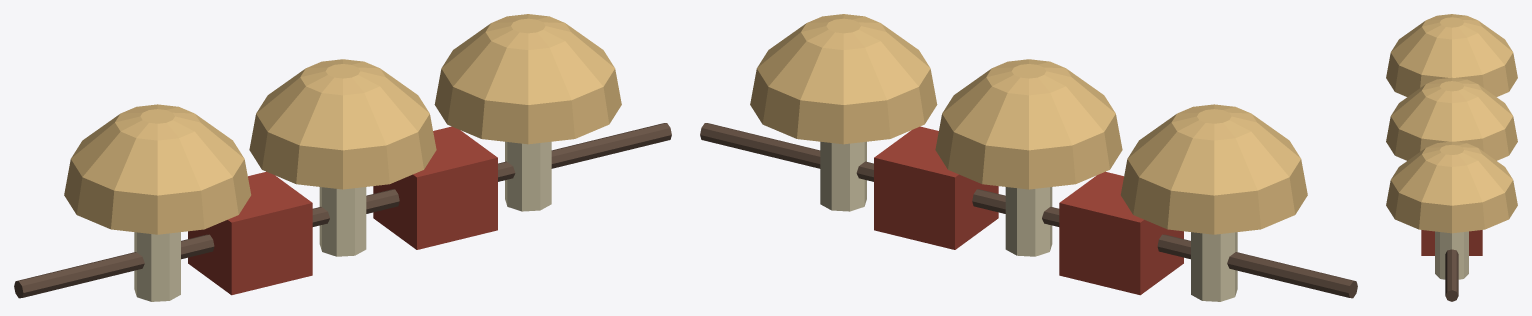
Rendered from AE_Item_MooncapSkewer.fbx.
3 renders of one model, left to right at view 1: azimuth 30°, elevation 25°; view 2: azimuth 150°, elevation 25°; view 3: azimuth 270°, elevation 25°, orthographic. The views are drawn at different scales.
Parts seen in each view (by area): view 1: AE_Item_MooncapSkewer; view 2: AE_Item_MooncapSkewer; view 3: AE_Item_MooncapSkewer.
Boxes of the visible parts, x1,y1,x2,y2 form: AE_Item_MooncapSkewer: [14, 14, 671, 301]; AE_Item_MooncapSkewer: [700, 14, 1357, 301]; AE_Item_MooncapSkewer: [1386, 14, 1517, 301].
Bounding box in the file's own units: 0.56 × 0.145 × 0.14.
